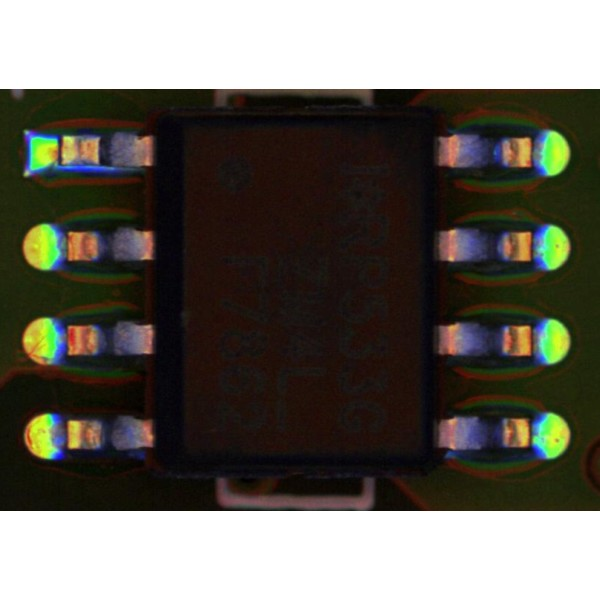Bad_podu: (48, 144, 74, 160)
